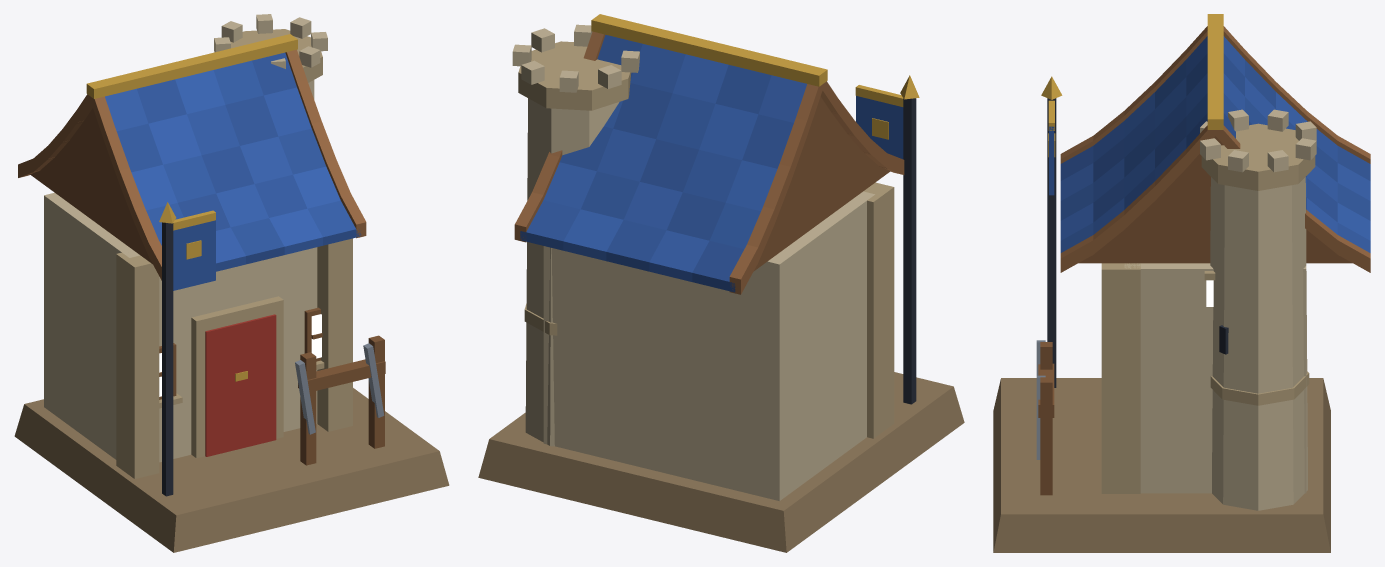
The model's file is camp_militia_t1.glb.
3 views of the same model, side by side, from view 1: azimuth 30°, elevation 25°; view 2: azimuth 150°, elevation 25°; view 3: azimuth 270°, elevation 25° (orthographic). The views are drawn at different scales.
Visible parts, largest first — view 1: body, glow; view 2: body; view 3: body.
Boxes of the visible parts, x1,y1,x2,y2 form: body: (14, 14, 449, 552); glow: (159, 314, 321, 396); body: (478, 14, 964, 552); body: (993, 14, 1370, 552).
Bounding box in the file's own units: 1.9 × 2.53 × 2.12.
